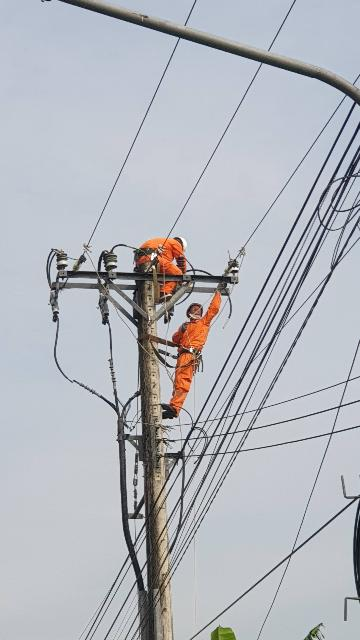gloves: (178, 322, 192, 333), (216, 282, 227, 294)
harness: (153, 337, 207, 364), (125, 245, 165, 259)
helmet: (184, 301, 206, 319), (172, 235, 192, 251)
shoes: (160, 399, 182, 418), (157, 290, 173, 305)
